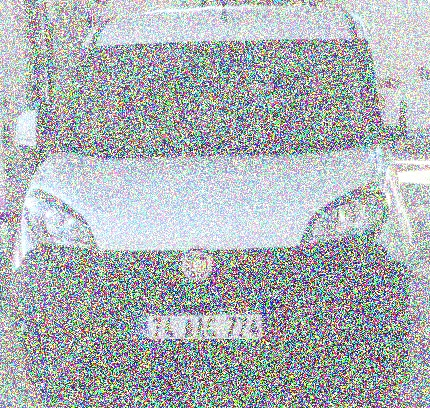plaka: (144, 311, 265, 343)
